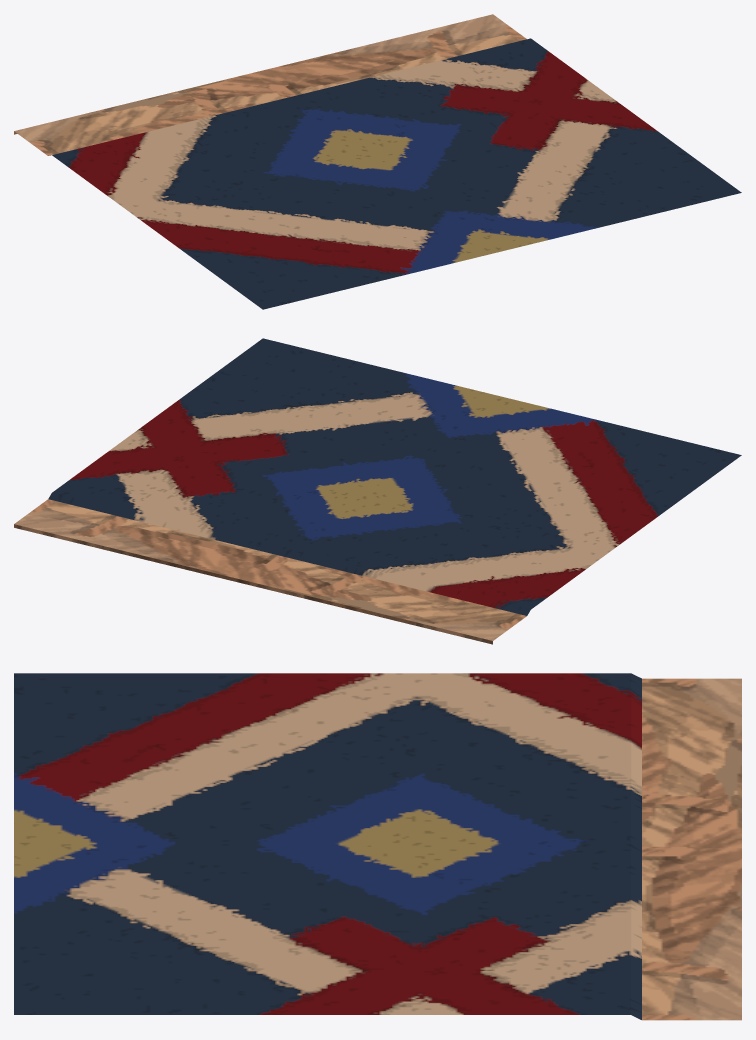
The model's file is STFcarpet_side_f.glb.
3 views of the same model, one above another, from view 1: azimuth 30°, elevation 25°; view 2: azimuth 150°, elevation 25°; view 3: azimuth 270°, elevation 25° (orthographic). The views are drawn at different scales.
Parts seen in each view (by area): view 1: STFcarpet_side_f; view 2: STFcarpet_side_f; view 3: STFcarpet_side_f.
Boxes of the visible parts, left/top/right/bottom form: STFcarpet_side_f: left=14, top=14, right=741, bottom=309; STFcarpet_side_f: left=14, top=338, right=741, bottom=644; STFcarpet_side_f: left=14, top=673, right=741, bottom=1020.
Size of the model in its own units: 1 by 0.0144 by 0.9.
Materials: 2 (2 with a texture image).
